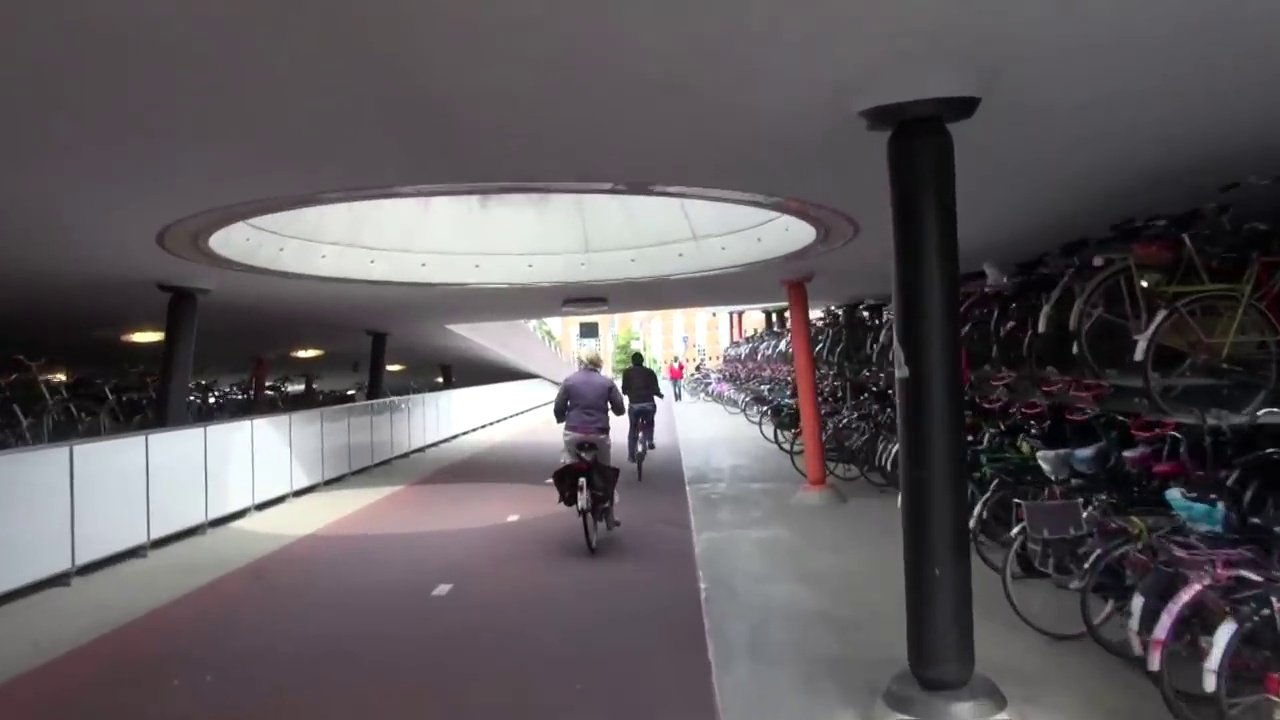cyclist_back: (556, 338, 628, 550), (620, 342, 667, 483)
